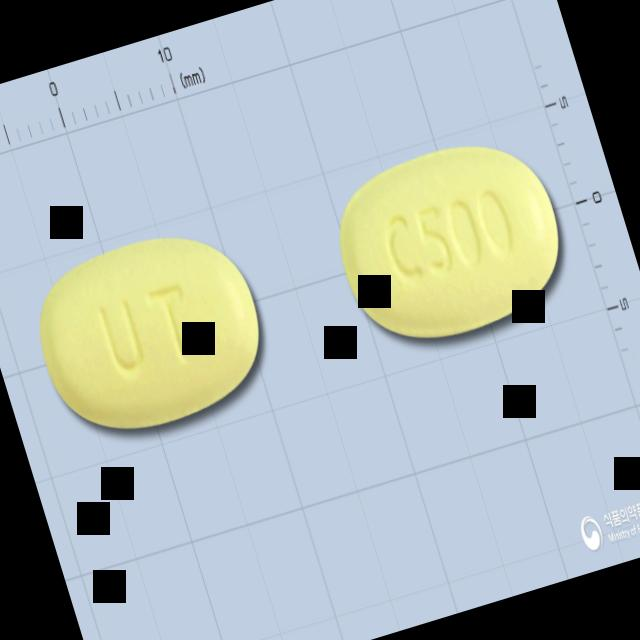Claxin: (316, 116, 584, 364), (18, 210, 284, 458)
